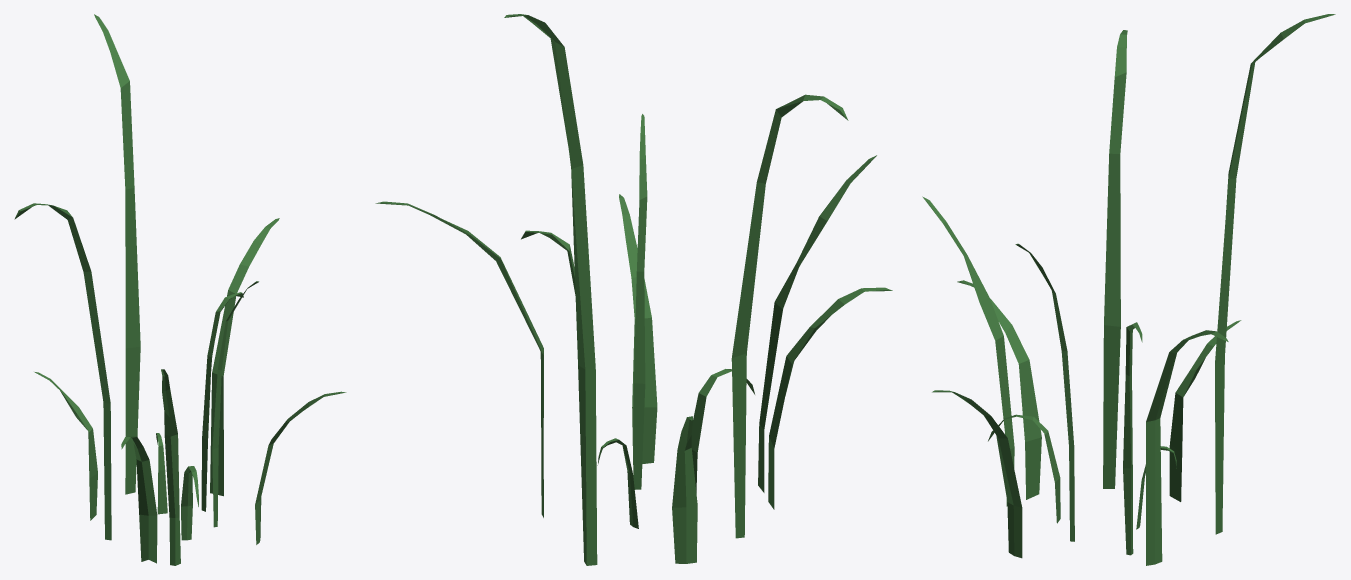
Rendered from Weed03.gltf.
The picture shows the model from 3 angles, left to right: view 1: azimuth 30°, elevation 25°; view 2: azimuth 150°, elevation 25°; view 3: azimuth 270°, elevation 25°; orthographic projection. The views are drawn at different scales.
Parts seen in each view (by area): view 1: Plane.001; view 2: Plane.001; view 3: Plane.001.
Boxes of the visible parts, bbox=[...] form: Plane.001: bbox=[14, 14, 346, 565]; Plane.001: bbox=[375, 14, 892, 565]; Plane.001: bbox=[922, 14, 1335, 565].
Size of the model in its own units: 0.8452 by 1.15 by 0.8215.
Materials: 1 (1 with a texture image).
